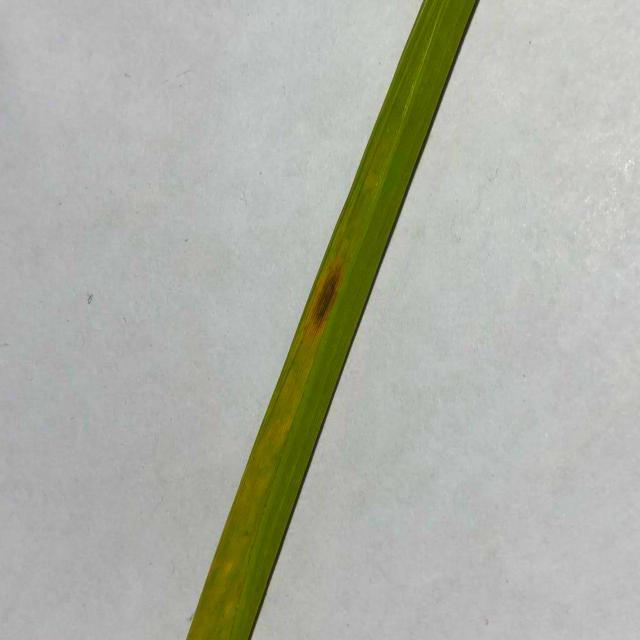brownspots: (302, 258, 349, 349)
